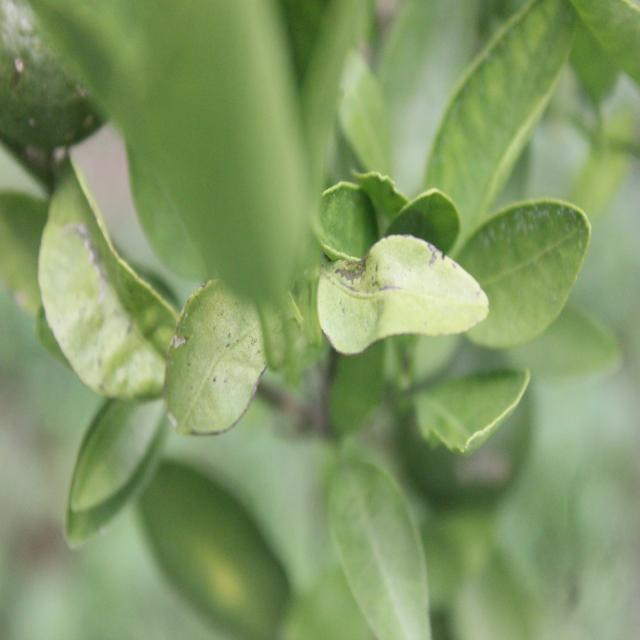melanose: (40, 195, 155, 395), (311, 240, 477, 350), (167, 296, 266, 424)
